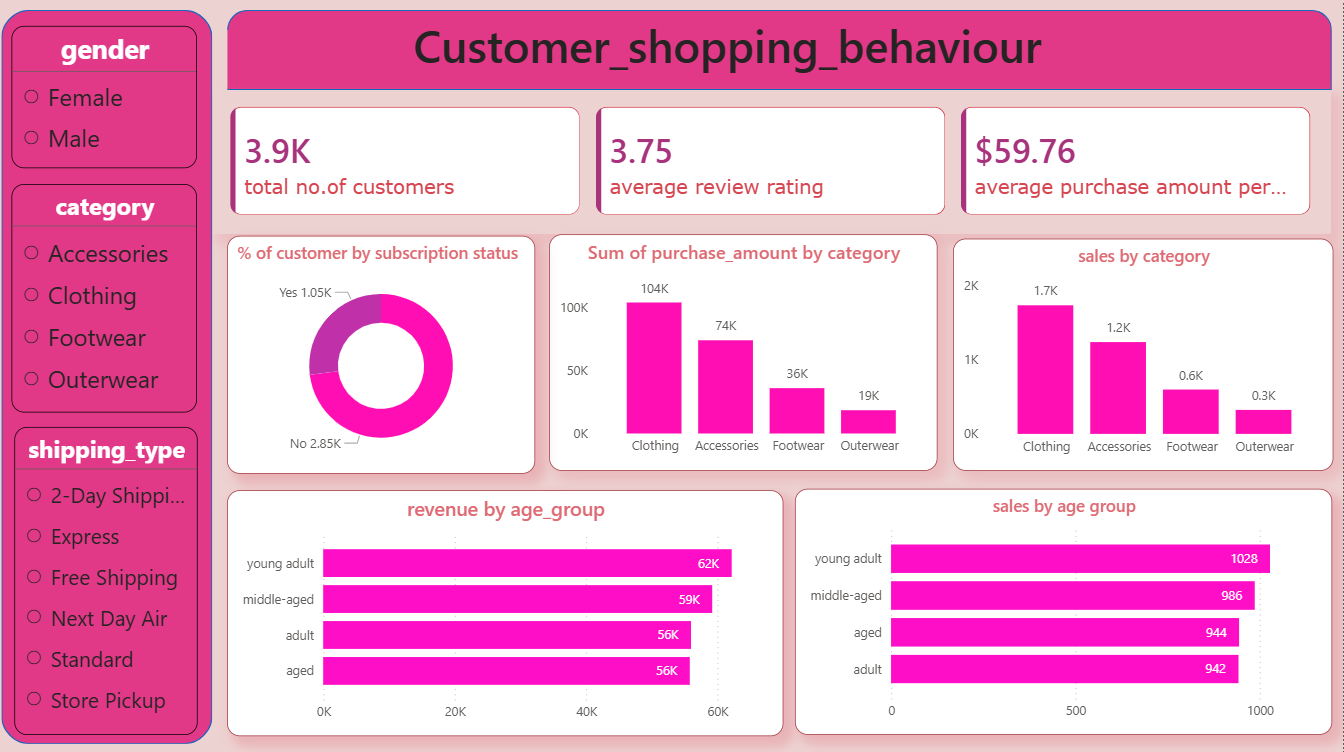

Layout of this report page (visuals, bound fields, positions):
{"tool":"powerbi","page":{"name":"Page 1","canvas":[1280,720],"ordinal":0},"visuals":[{"type":"shape","box":[216.4,9.1,1052.8,76.2],"z":0},{"type":"cardVisual","fields":{"Data":["new measures.total no.of customers","new measures.average review rating","new measures.average purchase amount per order"]},"box":[202.7,85.6,1065.8,137.6],"z":1000},{"type":"barChart","title":"revenue  by age_group","fields":{"Category":["customer_shopping_behavior mytable.age_group"],"Y":["Sum(customer_shopping_behavior mytable.purchase_amount)"]},"box":[215.8,466.9,530.1,234.4],"z":2000},{"type":"textbox","box":[388.7,9.3,835.1,76.3],"z":3000},{"type":"shape","box":[1.9,9.3,200.9,699.4],"z":4000},{"type":"listSlicer","fields":{"Values":["customer_shopping_behavior mytable.gender"]},"box":[11.2,24.2,176.7,135.8],"z":5000},{"type":"listSlicer","fields":{"Values":["customer_shopping_behavior mytable.category"]},"box":[11.2,174.8,176.7,217.6],"z":6000},{"type":"clusteredColumnChart","fields":{"Category":["customer_shopping_behavior mytable.category"],"Y":["Sum(customer_shopping_behavior mytable.purchase_amount)"]},"box":[522.7,223.2,370.1,225.1],"z":7000},{"type":"clusteredColumnChart","title":"sales by category","fields":{"Category":["customer_shopping_behavior mytable.category"],"Y":["new measures.total no.of customers"]},"box":[907.7,226.9,362.7,221.3],"z":8000},{"type":"barChart","title":"sales by age group","fields":{"Category":["customer_shopping_behavior mytable.age_group"],"Y":["new measures.total no.of customers"]},"box":[757.2,466.2,511.9,234.6],"z":9000},{"type":"listSlicer","fields":{"Values":["customer_shopping_behavior mytable.shipping_type"]},"box":[13,407.3,174.8,293.9],"z":10000},{"type":"donutChart","title":"% of customer by subscription status","fields":{"Category":["customer_shopping_behavior mytable.subscription_status"],"Y":["CountNonNull(customer_shopping_behavior mytable.customer_id)"]},"box":[215.8,225.1,293.9,226.9],"z":11000}]}

Visuals, with their boxes in screenshot pixels (x1, y1, x2, y2), scaled from the page's 1280x720 canvas onto the 1344x752 screenshot:
shape: [left=227, top=10, right=1333, bottom=89]
cardVisual - new measures.total no.of customers x new measures.average review rating: [left=213, top=89, right=1332, bottom=233]
"revenue  by age_group" barChart: [left=227, top=488, right=783, bottom=732]
textbox: [left=408, top=10, right=1285, bottom=89]
shape: [left=2, top=10, right=213, bottom=740]
listSlicer - customer_shopping_behavior mytable.gender: [left=12, top=25, right=197, bottom=167]
listSlicer - customer_shopping_behavior mytable.category: [left=12, top=183, right=197, bottom=410]
clusteredColumnChart - customer_shopping_behavior mytable.category x Sum(customer_shopping_behavior mytable.purchase_amount): [left=549, top=233, right=937, bottom=468]
"sales by category" clusteredColumnChart: [left=953, top=237, right=1334, bottom=468]
"sales by age group" barChart: [left=795, top=487, right=1333, bottom=732]
listSlicer - customer_shopping_behavior mytable.shipping_type: [left=14, top=425, right=197, bottom=732]
"% of customer by subscription status" donutChart: [left=227, top=235, right=535, bottom=472]
